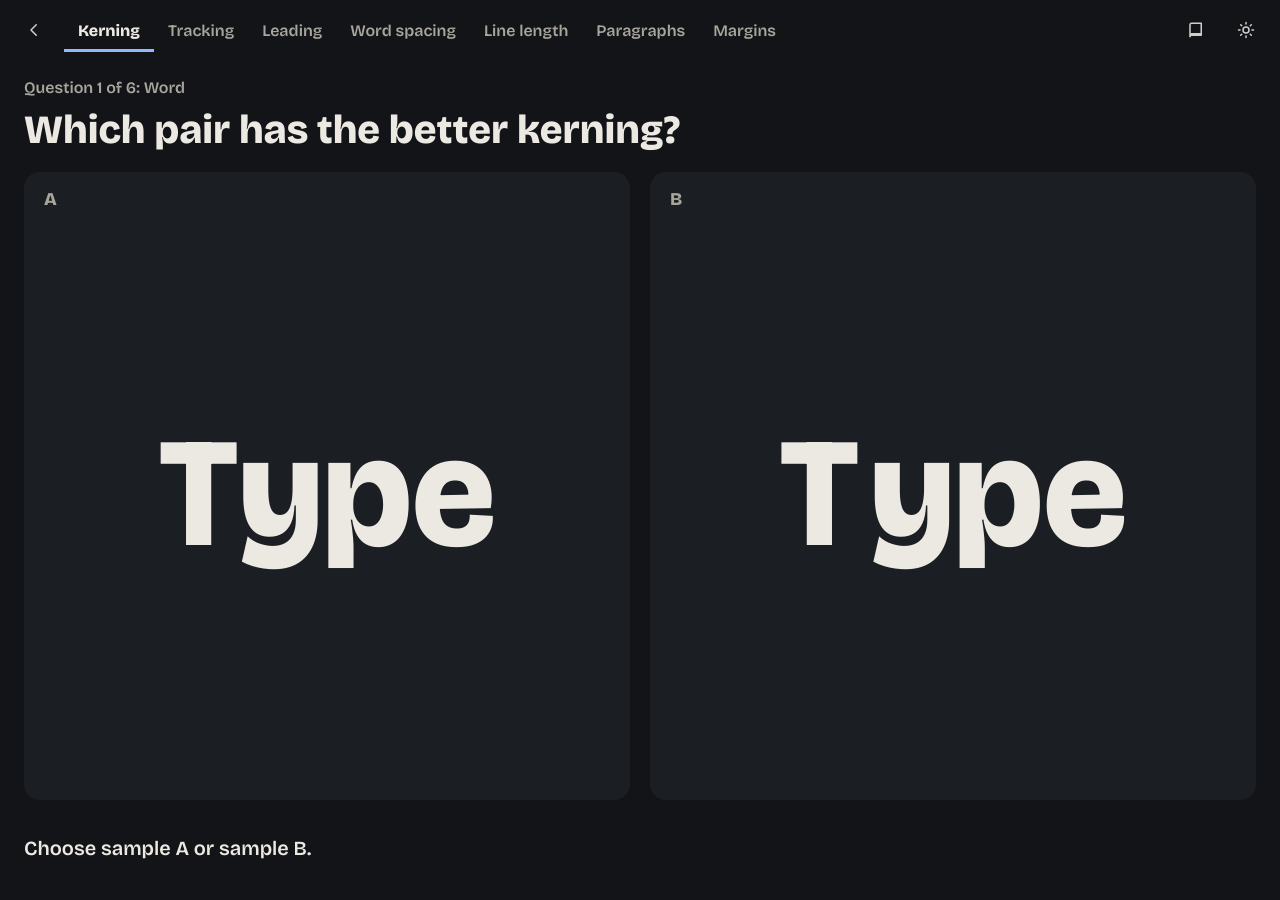
it: Design Playground › explains a wrong quiz answer
Click the button with aria-label "Choose sample A" at coordinates (327, 762), box [24, 172, 630, 800]
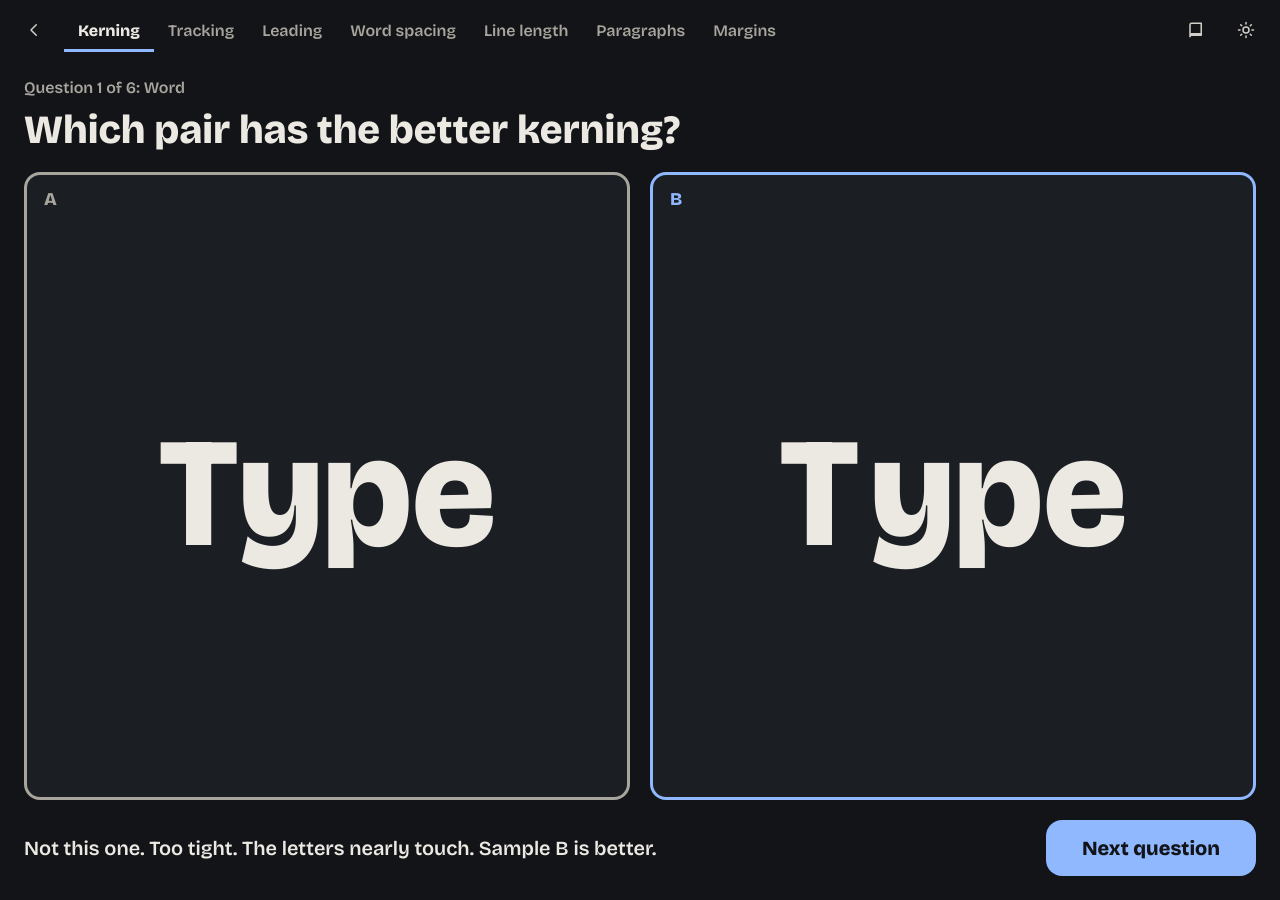
Expected: the text "Not this one." is shown, [24, 836, 656, 860]
